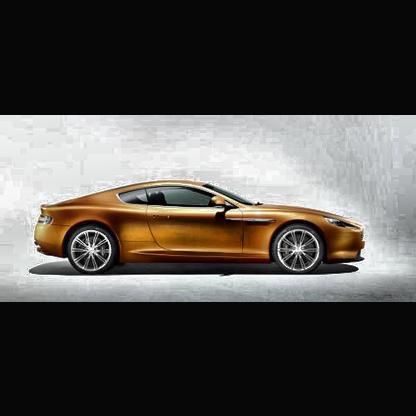Aston Martin Virage Coupe 2012: (22, 175, 383, 290)
